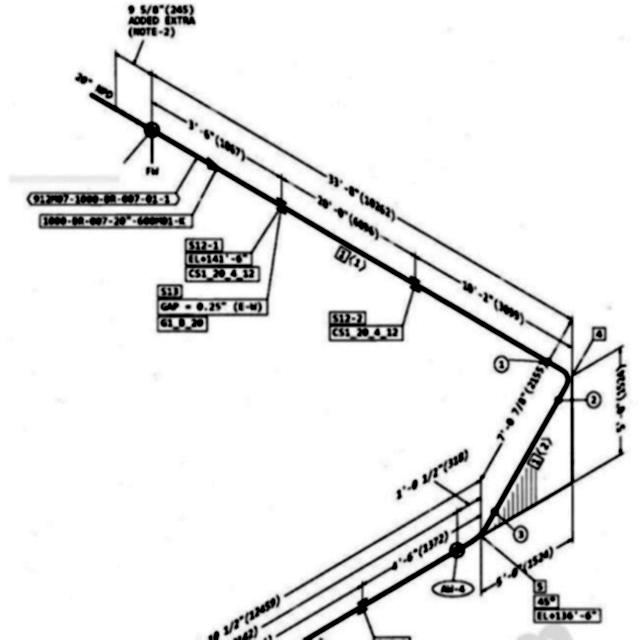Item number: (326, 309, 368, 327), (185, 236, 225, 254), (592, 325, 608, 342), (533, 579, 548, 595)
Measrement: (150, 68, 572, 326), (194, 492, 465, 639), (478, 523, 575, 599), (487, 363, 548, 460), (613, 346, 630, 459)
Pipeline: (91, 92, 555, 369)
Symbol: (544, 343, 579, 407), (138, 115, 164, 143)
Weld number: (430, 578, 477, 600), (584, 388, 604, 411), (492, 354, 512, 375), (512, 524, 531, 545)
other: (123, 0, 198, 41), (26, 191, 183, 208), (155, 298, 270, 318), (182, 259, 265, 285), (327, 324, 407, 344), (533, 607, 604, 625)
